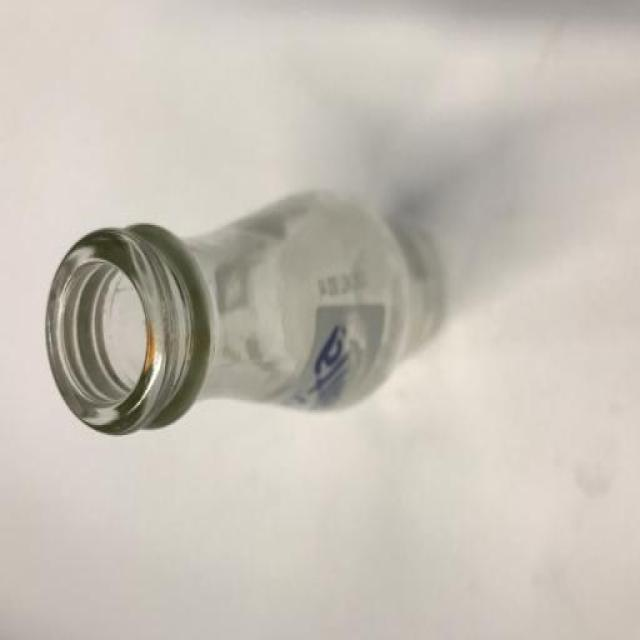glass: (44, 187, 448, 433)
